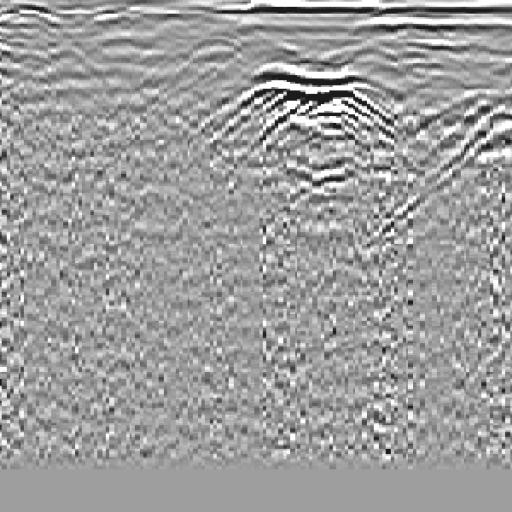metalic: (215, 44, 407, 158)
